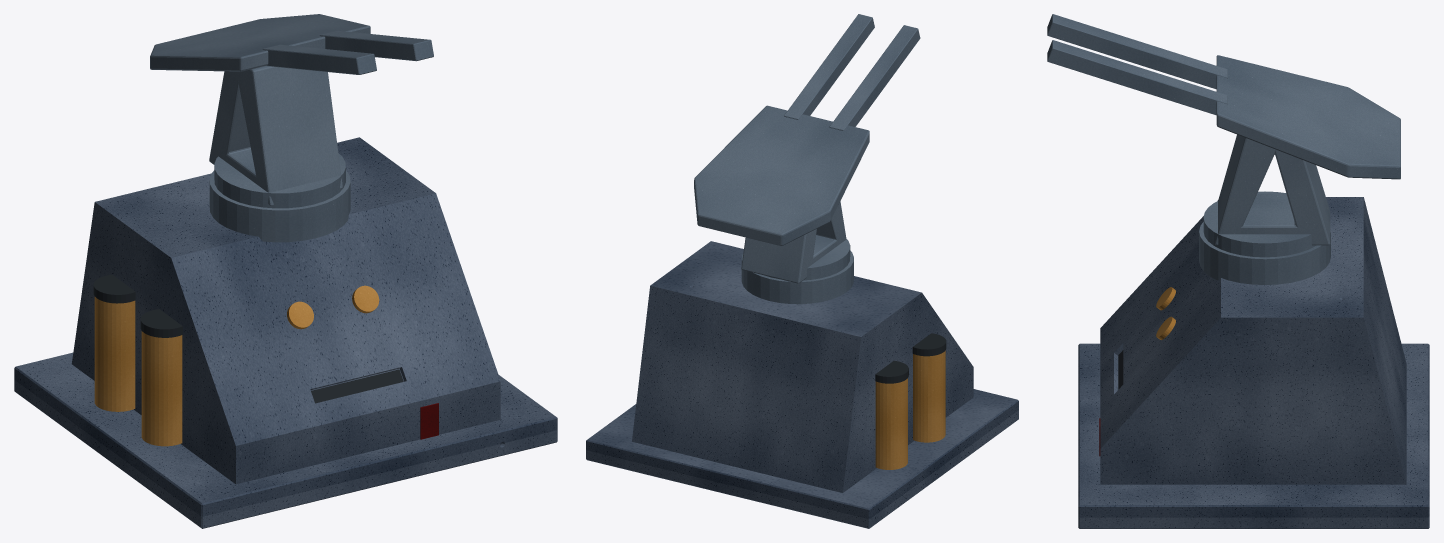
3 views of the same model, side by side, from view 1: azimuth 30°, elevation 25°; view 2: azimuth 150°, elevation 25°; view 3: azimuth 270°, elevation 25° (orthographic). The views are drawn at different scales.
Visible parts, largest first — view 1: Pulse Tower inclined fixed cast body, Pulse Tower grounded low rectangular foot, Pulse Tower pierced rotating support, Pulse Tower broad asymmetric wedge head, Pulse Tower fixed supported bearing, Pulse Tower brass side reservoir 0, Pulse Tower brass side reservoir 1, Pulse Tower moving bearing, Pulse Tower parallel rectangular prong 0, Pulse Tower parallel rectangular prong 1, Pulse Tower seated dark horizontal slot backing, Pulse Tower dark reservoir cap 1 (+2 smaller); view 2: Pulse Tower inclined fixed cast body, Pulse Tower broad asymmetric wedge head, Pulse Tower grounded low rectangular foot, Pulse Tower pierced rotating support, Pulse Tower brass side reservoir 1, Pulse Tower brass side reservoir 0, Pulse Tower fixed supported bearing, Pulse Tower parallel rectangular prong 0, Pulse Tower parallel rectangular prong 1, Pulse Tower moving bearing, Pulse Tower dark reservoir cap 0, Pulse Tower dark reservoir cap 1; view 3: Pulse Tower inclined fixed cast body, Pulse Tower grounded low rectangular foot, Pulse Tower broad asymmetric wedge head, Pulse Tower pierced rotating support, Pulse Tower parallel rectangular prong 0, Pulse Tower parallel rectangular prong 1, Pulse Tower fixed supported bearing, Pulse Tower moving bearing.
Boxes of the visible parts, x1,y1,x2,y2 form: Pulse Tower inclined fixed cast body: (71, 137, 500, 484); Pulse Tower grounded low rectangular foot: (14, 352, 557, 528); Pulse Tower pierced rotating support: (209, 66, 342, 205); Pulse Tower broad asymmetric wedge head: (150, 14, 370, 71); Pulse Tower fixed supported bearing: (209, 170, 350, 242); Pulse Tower brass side reservoir 0: (141, 331, 182, 446); Pulse Tower brass side reservoir 1: (94, 297, 135, 411); Pulse Tower moving bearing: (214, 153, 345, 208); Pulse Tower parallel rectangular prong 0: (262, 44, 376, 74); Pulse Tower parallel rectangular prong 1: (319, 30, 433, 61); Pulse Tower seated dark horizontal slot backing: (311, 369, 403, 403); Pulse Tower dark reservoir cap 1: (93, 274, 135, 303); Pulse Tower inclined fixed cast body: (632, 241, 973, 492); Pulse Tower broad asymmetric wedge head: (694, 105, 869, 245); Pulse Tower grounded low rectangular foot: (586, 389, 1018, 528); Pulse Tower pierced rotating support: (741, 201, 846, 283); Pulse Tower brass side reservoir 1: (875, 378, 907, 469); Pulse Tower brass side reservoir 0: (913, 350, 945, 442); Pulse Tower fixed supported bearing: (741, 250, 853, 304); Pulse Tower parallel rectangular prong 0: (829, 25, 920, 130); Pulse Tower parallel rectangular prong 1: (784, 14, 874, 119); Pulse Tower moving bearing: (764, 239, 850, 280); Pulse Tower dark reservoir cap 0: (912, 333, 946, 356); Pulse Tower dark reservoir cap 1: (875, 360, 908, 383); Pulse Tower inclined fixed cast body: (1100, 197, 1406, 484); Pulse Tower grounded low rectangular foot: (1078, 343, 1429, 528); Pulse Tower broad asymmetric wedge head: (1216, 55, 1400, 179); Pulse Tower pierced rotating support: (1215, 134, 1330, 245); Pulse Tower parallel rectangular prong 0: (1047, 14, 1227, 89); Pulse Tower parallel rectangular prong 1: (1047, 40, 1227, 115); Pulse Tower fixed supported bearing: (1199, 222, 1330, 284); Pulse Tower moving bearing: (1203, 191, 1316, 257).
Size of the model in its own units: 1.75 by 2.1 by 1.74.
5 materials, 4 textured.
